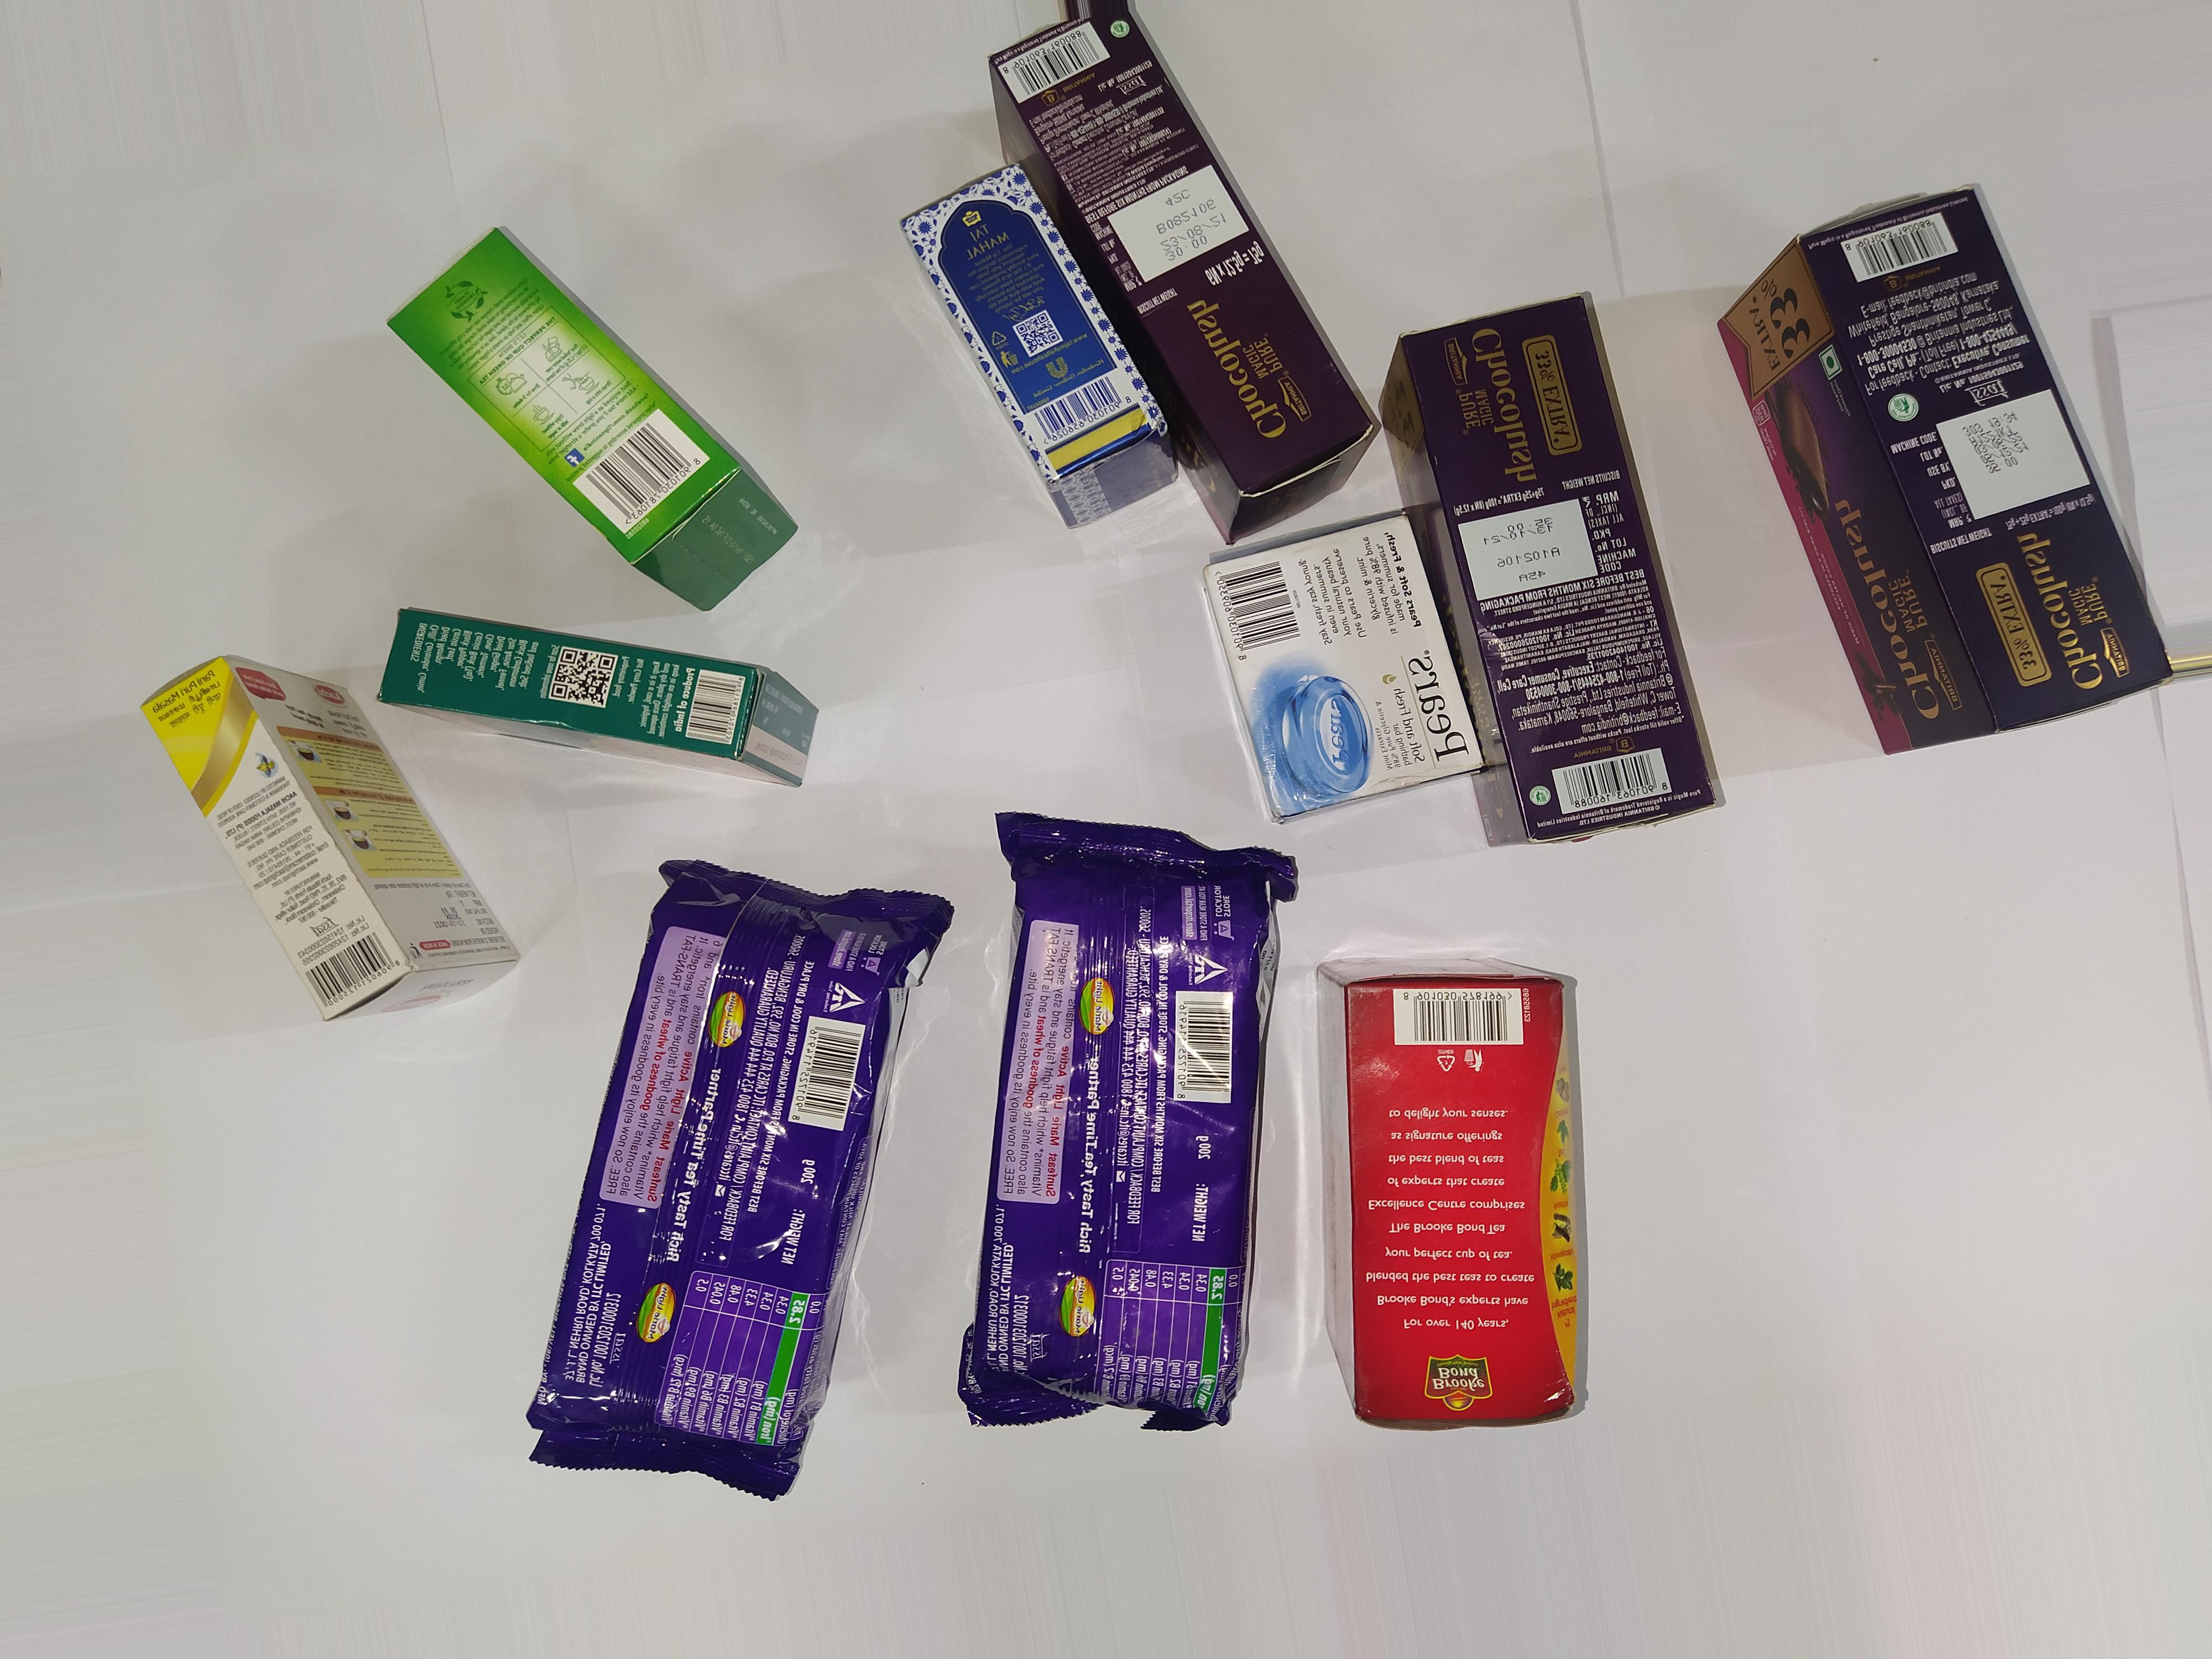Bar_code: (571, 420, 718, 519), (784, 1012, 883, 1159), (1155, 981, 1256, 1124), (1390, 978, 1538, 1070), (1202, 559, 1313, 671), (1536, 748, 1683, 824), (991, 19, 1151, 89), (1831, 214, 1979, 284), (294, 922, 404, 1012), (1014, 373, 1143, 443), (681, 667, 756, 749)
Item: (1681, 167, 2212, 819), (554, 842, 949, 1486), (967, 789, 1313, 1455), (970, 14, 1388, 525), (1378, 281, 1731, 870), (376, 228, 838, 631), (1310, 939, 1651, 1469), (127, 647, 533, 1063), (895, 157, 1214, 575), (378, 594, 843, 800), (1195, 530, 1505, 814)
QR_code: (547, 631, 624, 721), (1012, 312, 1066, 357)
